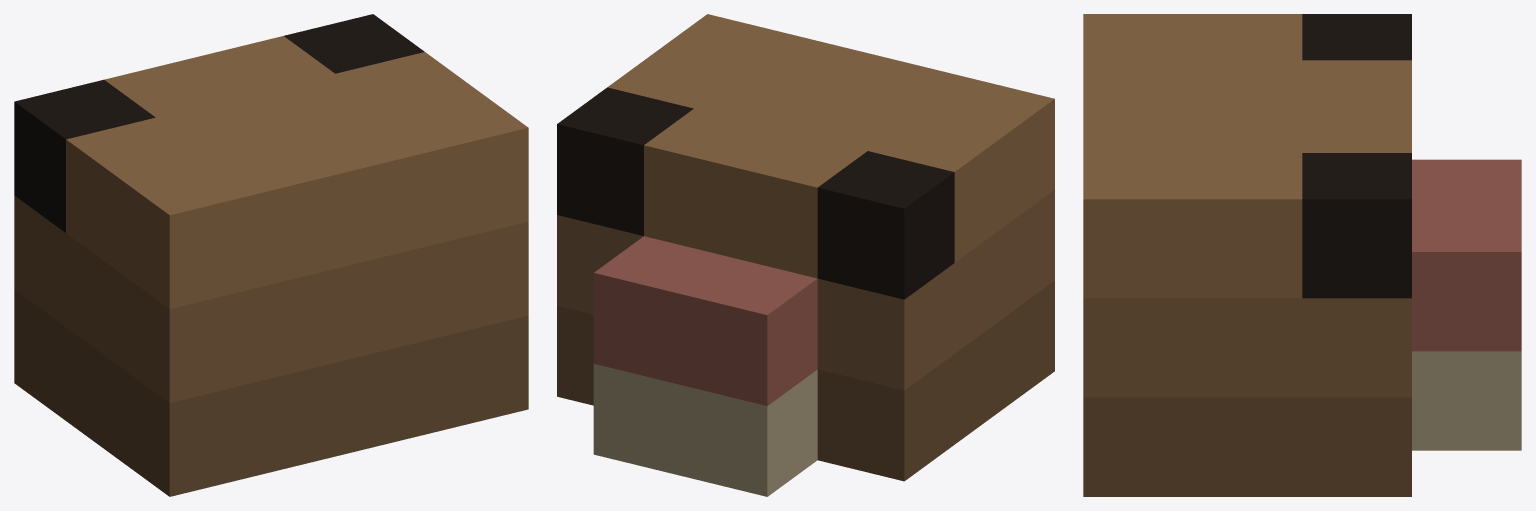
The model's file is head.glb.
3 renders of one model, left to right at view 1: azimuth 30°, elevation 25°; view 2: azimuth 150°, elevation 25°; view 3: azimuth 270°, elevation 25°, orthographic. The views are drawn at different scales.
Visible parts, largest first — view 1: head; view 2: head; view 3: head.
Boxes of the visible parts, x1,y1,x2,y2 form: head: (14, 14, 528, 496); head: (557, 14, 1054, 496); head: (1083, 14, 1521, 496).
Bounding box in the file's own units: 0.5 × 0.375 × 0.5.
